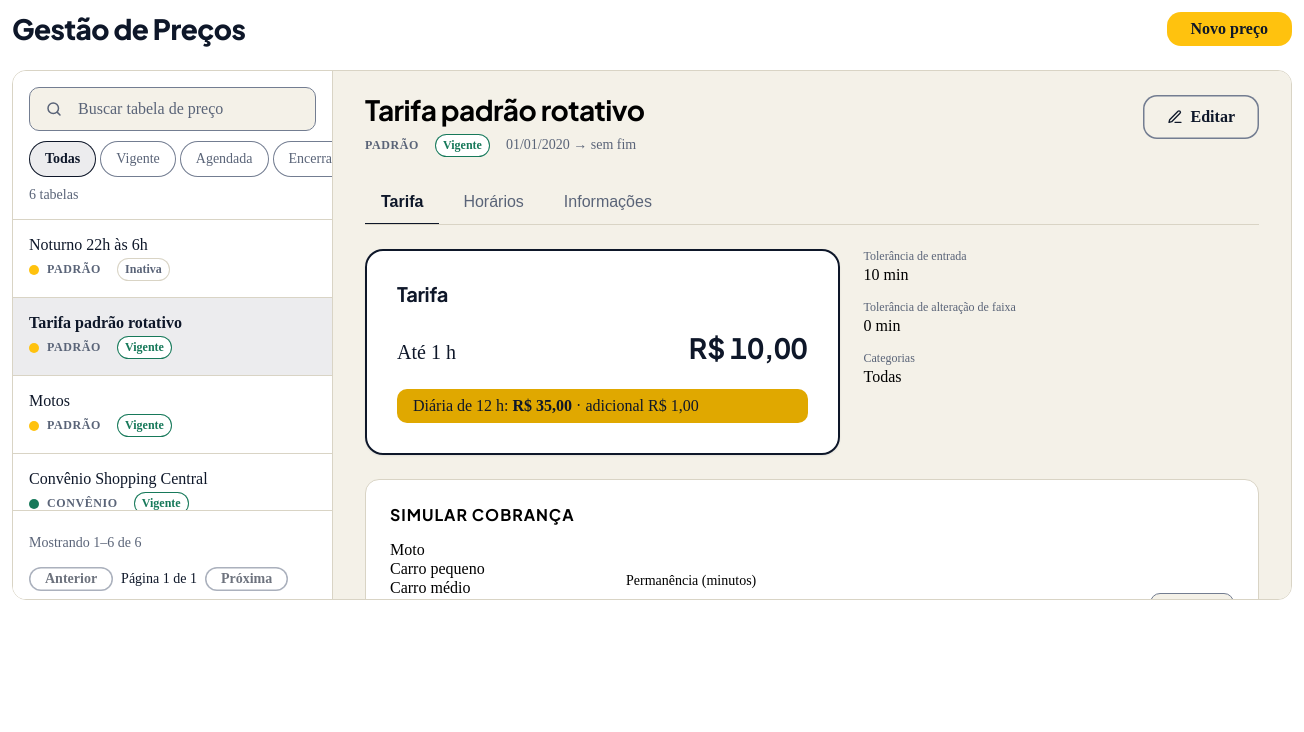
Test: PrecosMasterDetail: lista e detalhe › clicar num item mostra o detalhe dele sem abrir a edição
Expected: the list named "Tabelas de preço" is shown, [13, 220, 332, 510]
What coordinates should you click on to do the following:
click the button "Motos Padrão Vigente"
I would click on:
 (172, 415)
Its box is [13, 376, 332, 454].
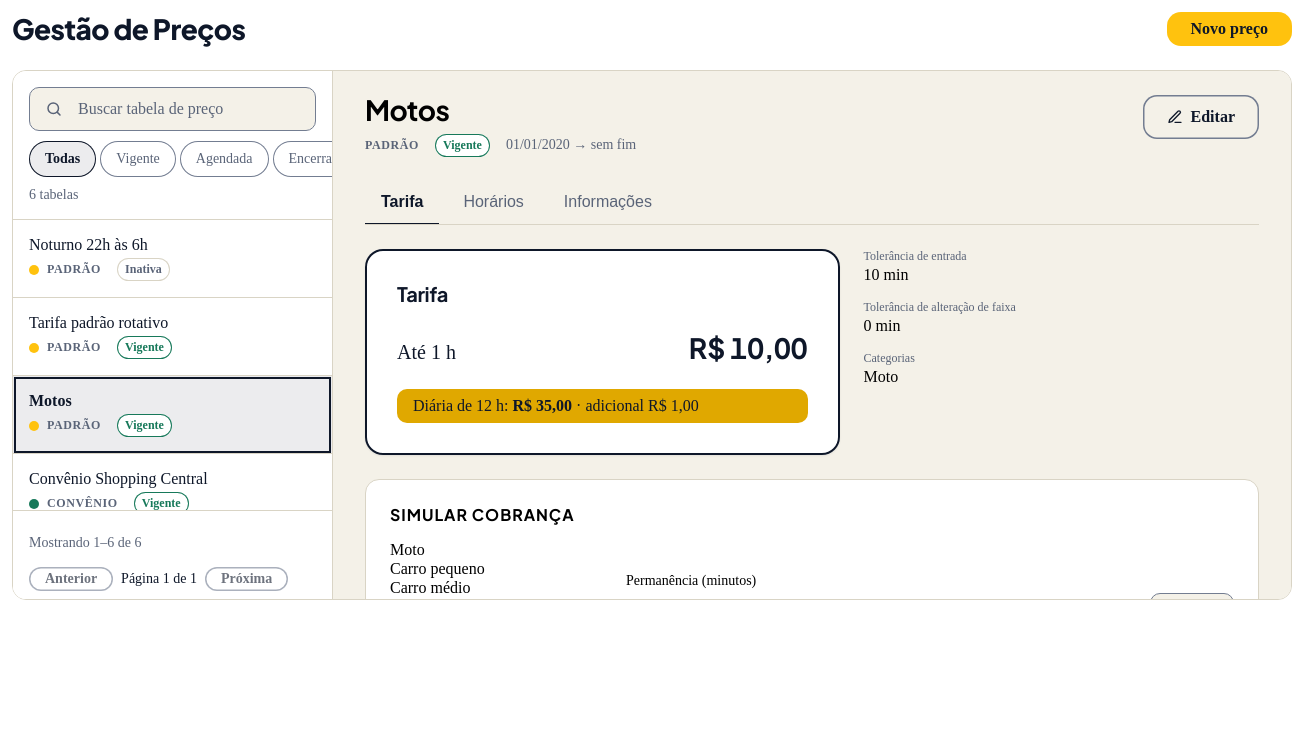
Now the heading "Motos" is shown, box [365, 92, 449, 127]
